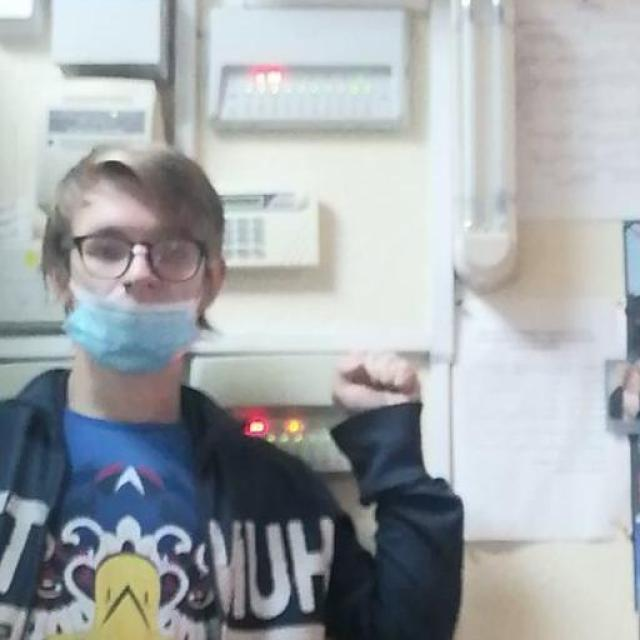hand: (330, 348, 422, 417)
